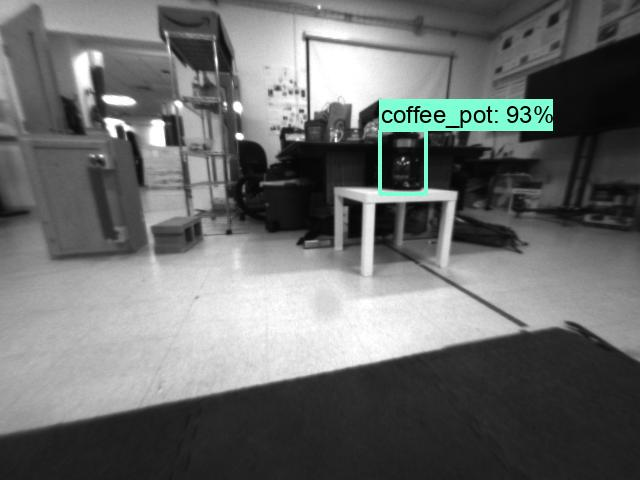coffee_pot: (382, 138, 424, 191)
